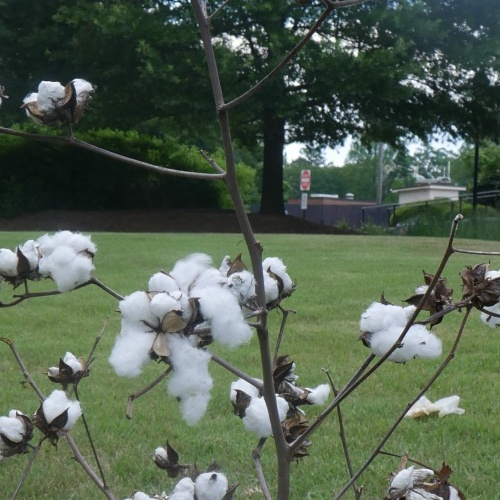immature_boll: (414, 244, 500, 333)
mature_boll: (86, 211, 356, 451), (5, 332, 95, 472), (23, 44, 128, 142), (1, 208, 96, 309)
